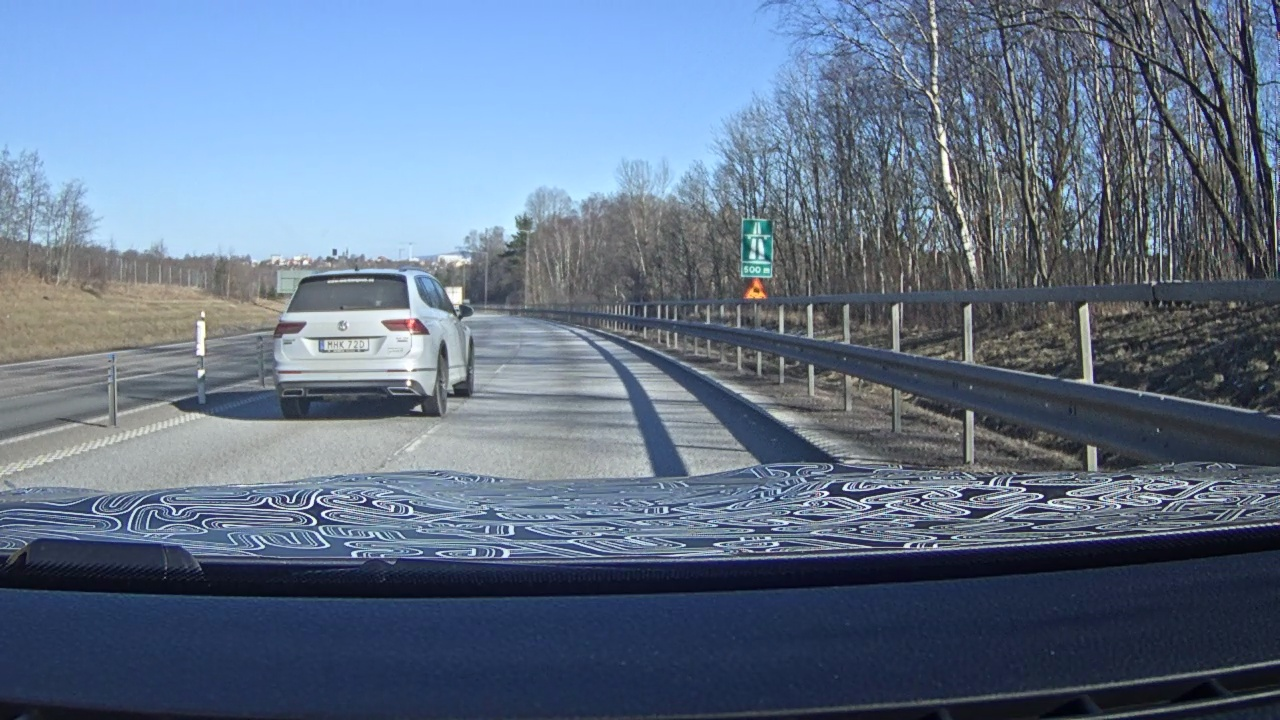Motorway_Begin: (743, 217, 775, 264)
